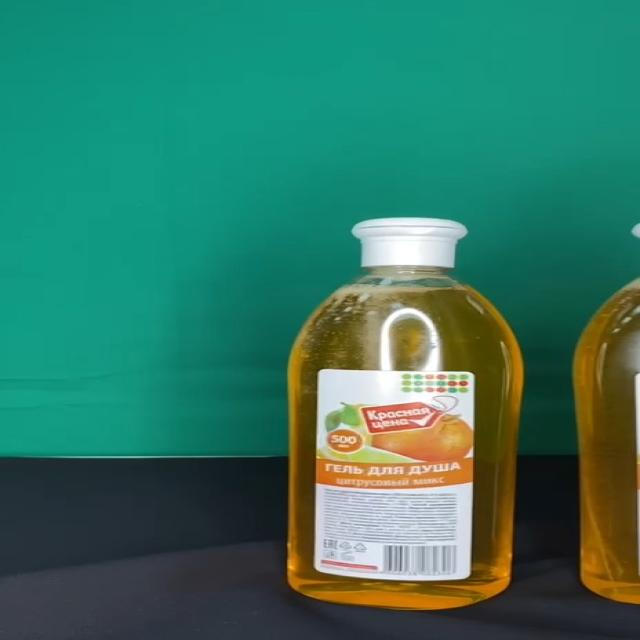Bottle: (287, 218, 526, 611)
Cap: (352, 218, 472, 268)
